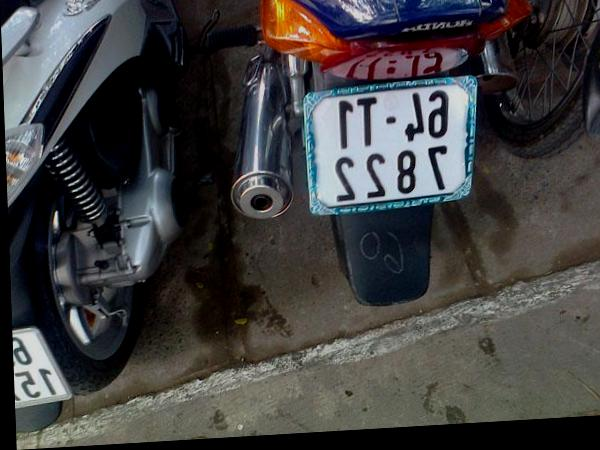License_Plate: (308, 78, 471, 210)
